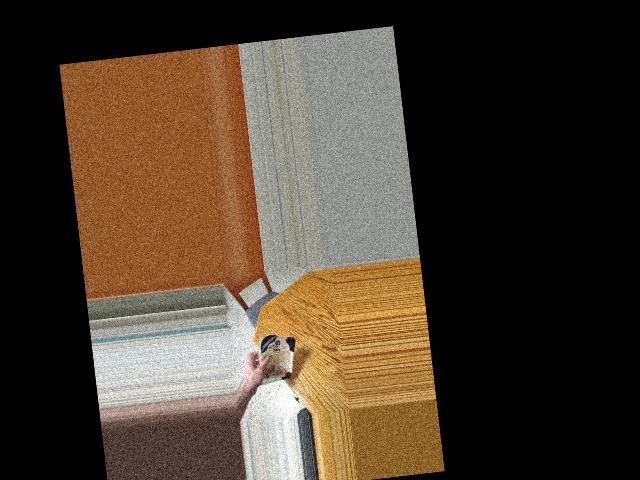cheese: (252, 330, 297, 393)
